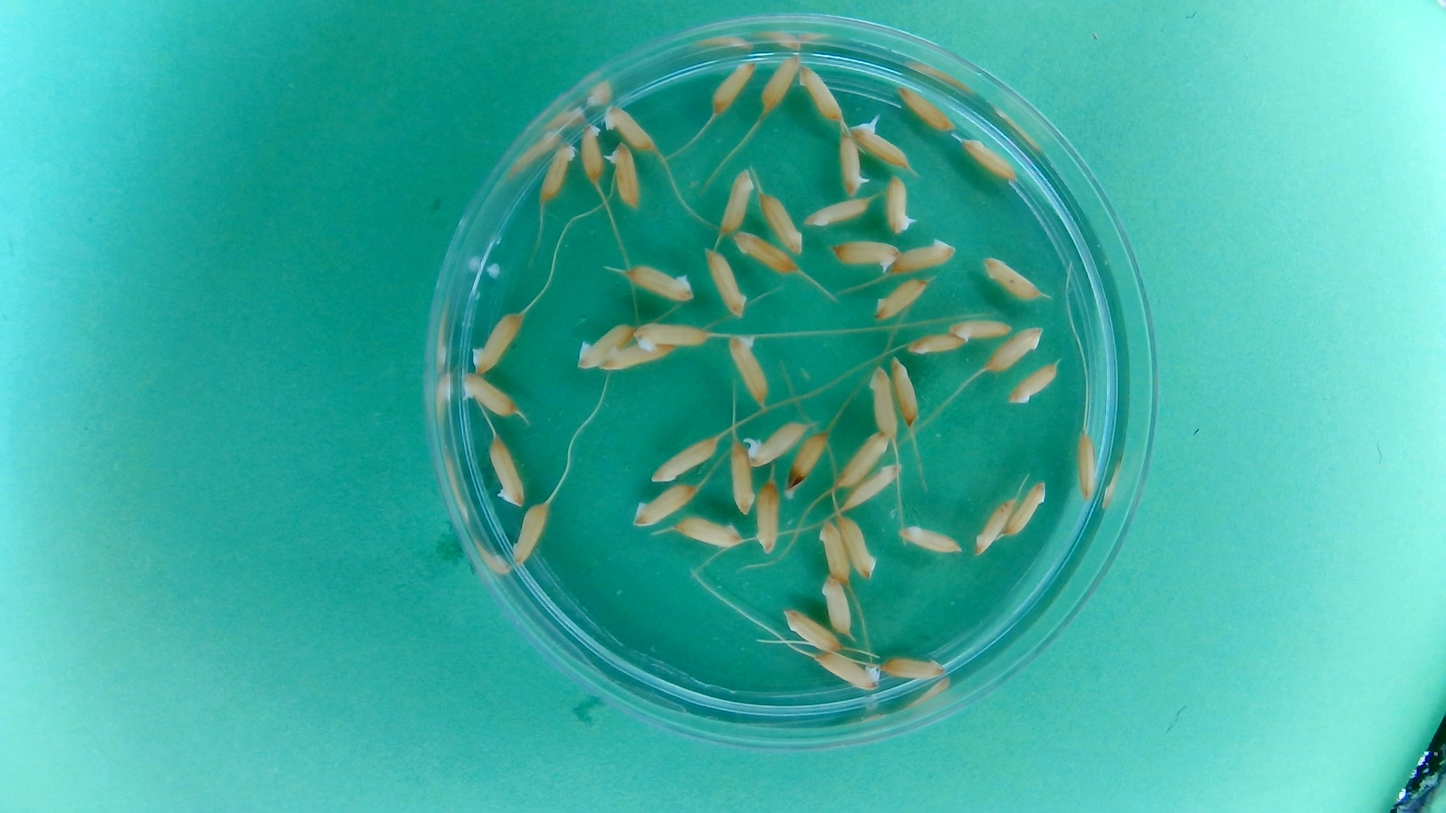no: (468, 309, 525, 376), (648, 434, 721, 485), (833, 428, 891, 490), (704, 245, 750, 318), (731, 227, 799, 276), (631, 481, 700, 528), (785, 428, 831, 498), (981, 254, 1046, 303), (841, 461, 902, 512), (984, 324, 1045, 375), (895, 81, 956, 132), (795, 62, 846, 123), (758, 189, 805, 255), (959, 134, 1020, 184), (575, 321, 636, 371), (459, 370, 520, 419), (813, 650, 882, 693), (487, 433, 526, 509), (782, 604, 842, 653), (601, 101, 658, 152), (510, 499, 552, 568), (709, 56, 758, 115), (837, 513, 880, 580), (1003, 477, 1048, 541), (624, 262, 694, 303), (886, 237, 959, 276), (874, 276, 932, 323), (758, 51, 801, 114), (1005, 359, 1062, 406), (828, 238, 900, 275), (717, 166, 755, 235), (972, 495, 1014, 557), (631, 318, 712, 350), (750, 475, 782, 555), (538, 139, 578, 202), (887, 354, 921, 428), (865, 363, 898, 439), (673, 515, 743, 549), (818, 574, 855, 637), (895, 522, 963, 556), (816, 519, 852, 583), (802, 196, 873, 228), (600, 341, 673, 372), (1073, 428, 1101, 504), (728, 438, 755, 515), (879, 652, 948, 681), (947, 315, 1014, 343), (578, 120, 606, 185), (904, 329, 969, 356)
yes: (726, 332, 770, 408), (850, 117, 911, 170), (744, 419, 810, 467), (882, 171, 917, 236), (836, 132, 870, 196)
